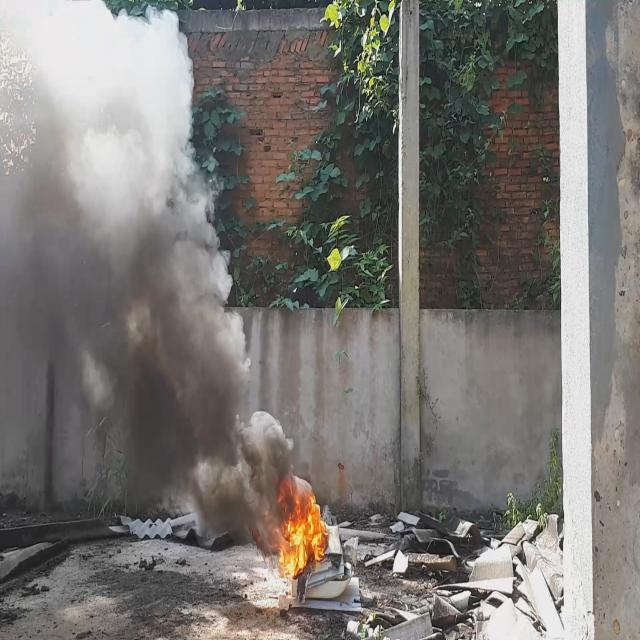Fire: (264, 464, 331, 582)
Smoke: (0, 0, 297, 540)
